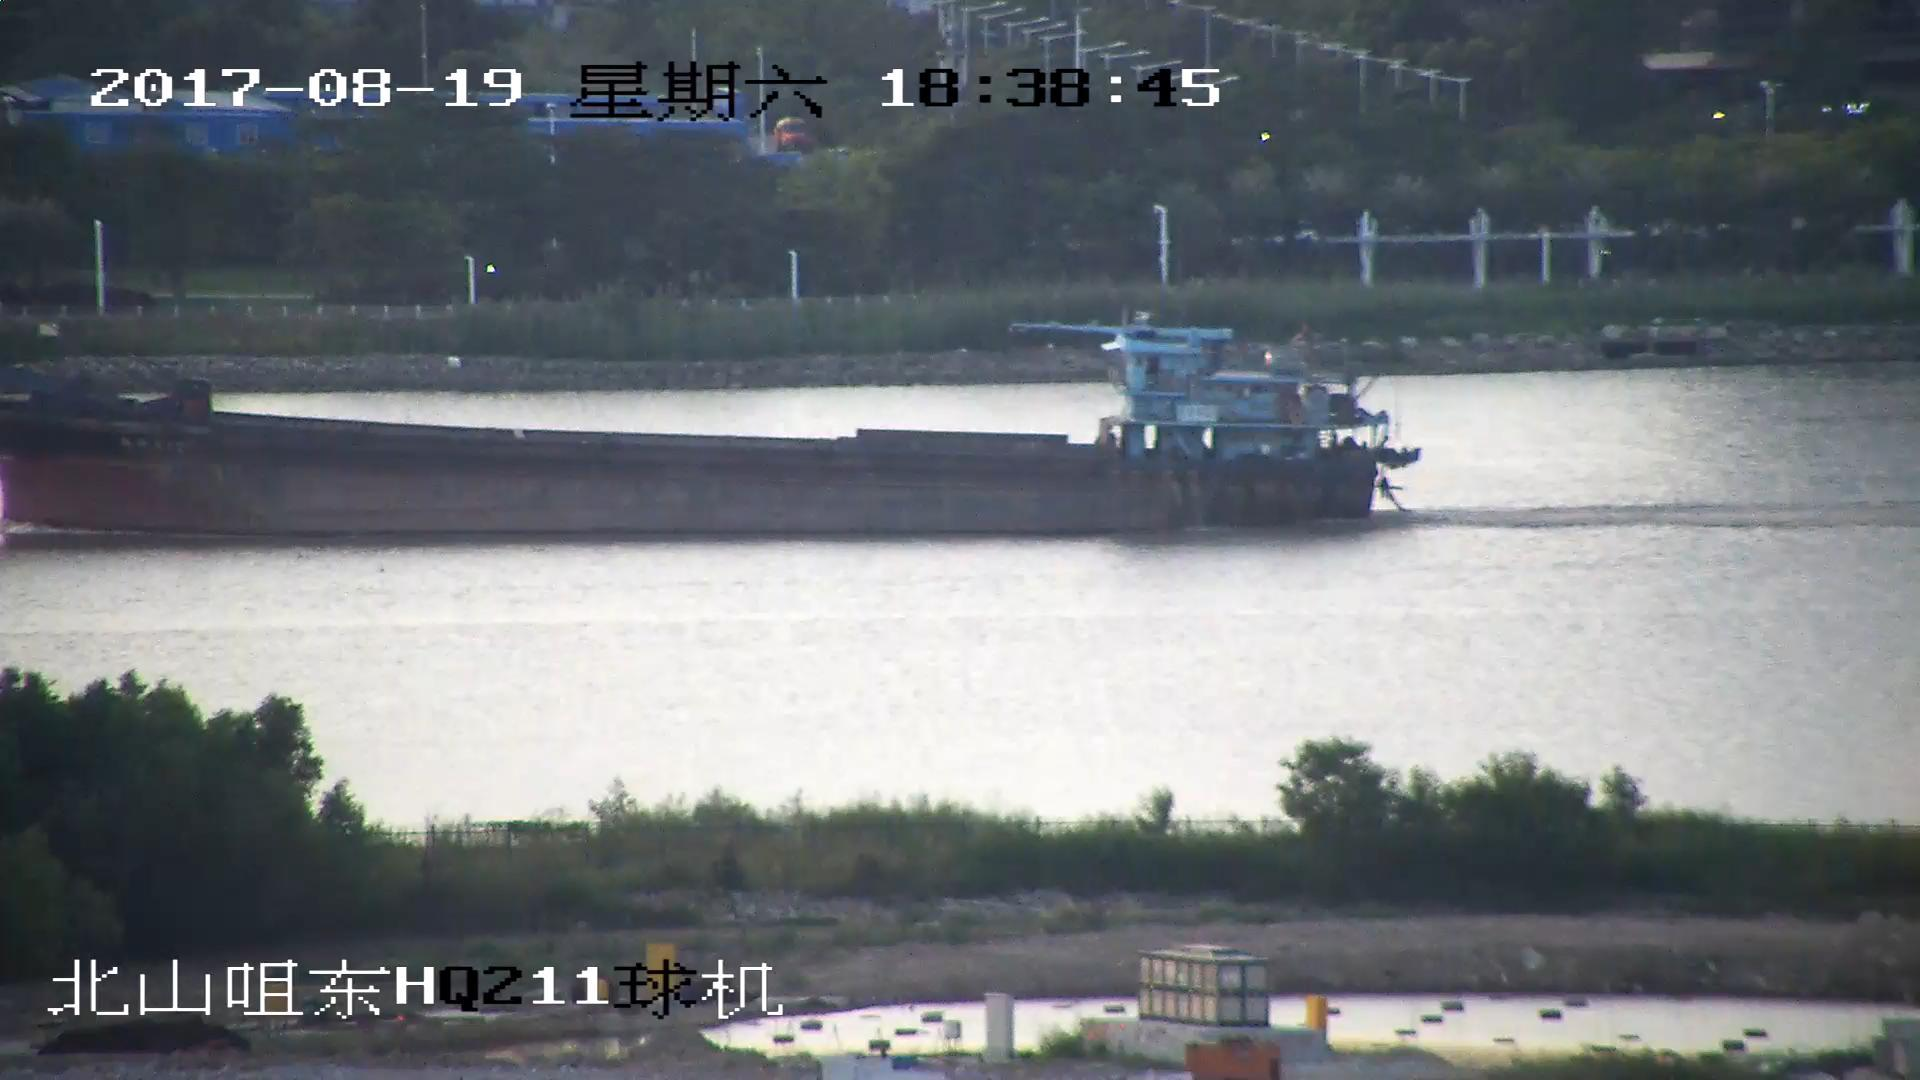Ship: (3, 309, 1400, 534)
